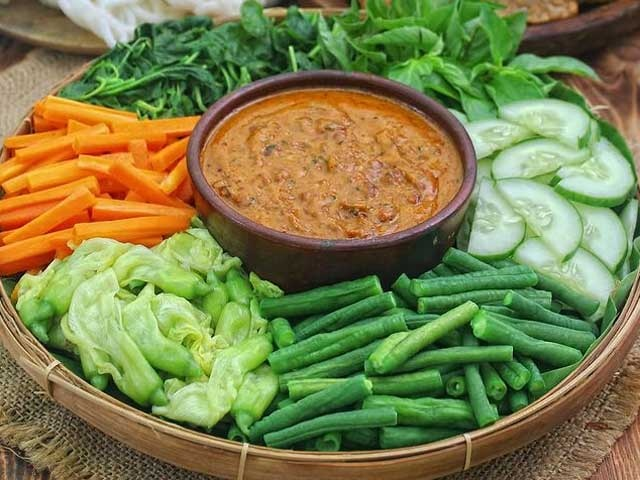pecel: (8, 8, 640, 439)
